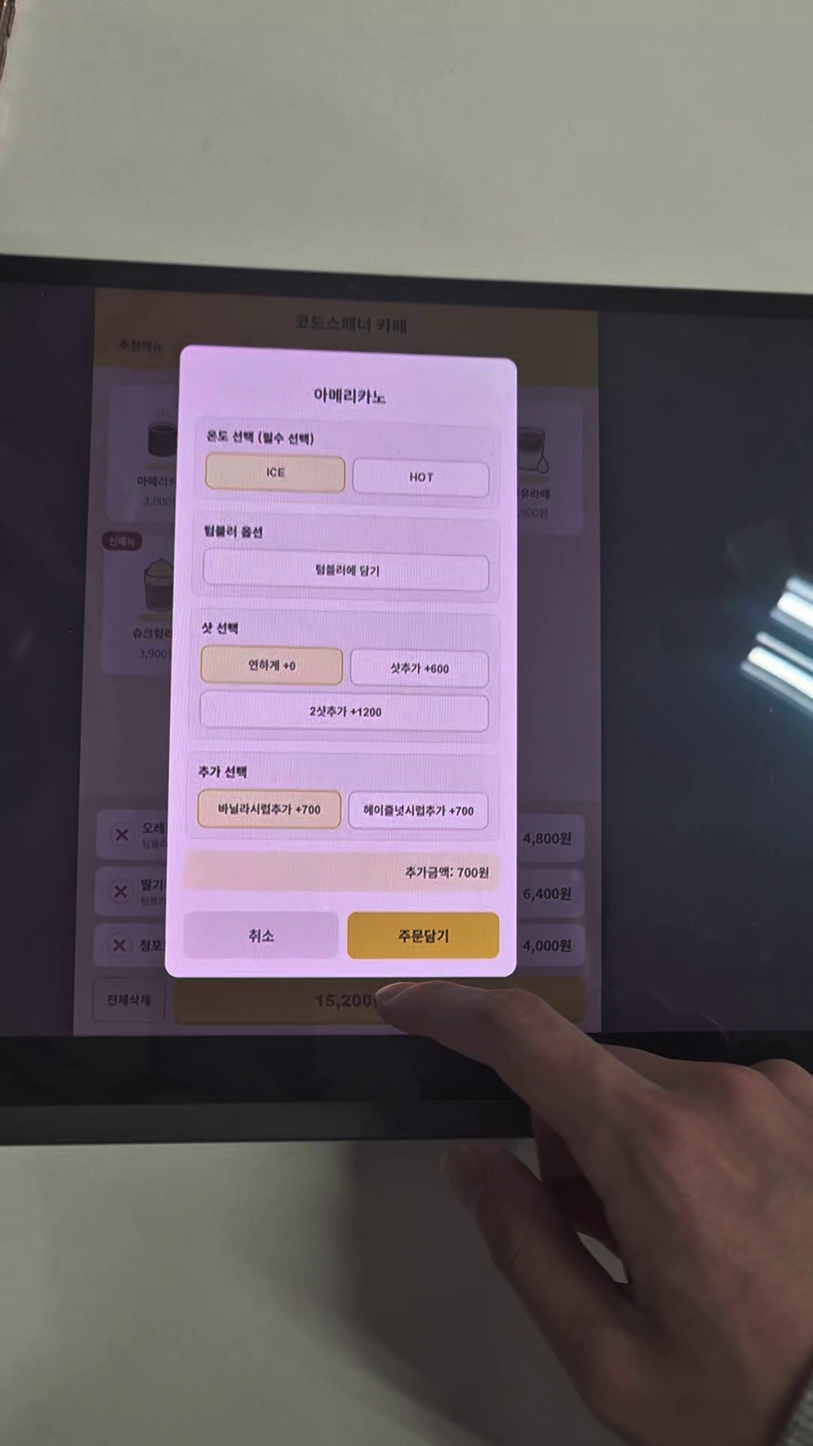action_button: (184, 912, 339, 959), (347, 913, 499, 959)
option_button: (203, 548, 489, 592), (200, 690, 489, 733), (351, 648, 489, 689), (201, 646, 343, 685), (198, 790, 341, 828), (206, 453, 345, 492), (349, 791, 488, 830), (353, 458, 489, 497)
popup_modal: (165, 345, 517, 978)
